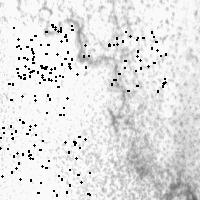pitted_surface: (55, 86, 199, 200), (23, 1, 180, 95), (8, 65, 66, 124), (108, 31, 165, 90), (32, 136, 89, 194), (12, 26, 69, 83), (31, 24, 88, 75), (0, 125, 35, 179)
